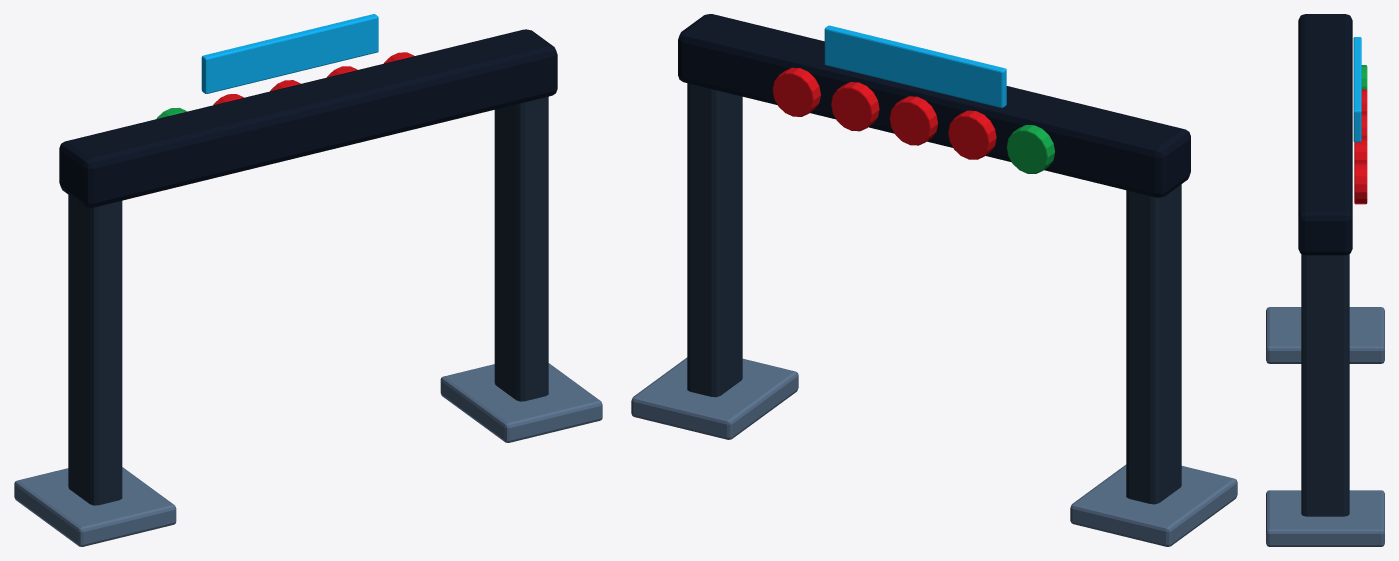
The model's file is neon_start_light_gantry.obj.
3 views of the same model, side by side, from view 1: azimuth 30°, elevation 25°; view 2: azimuth 150°, elevation 25°; view 3: azimuth 270°, elevation 25° (orthographic). The views are drawn at different scales.
Visible parts, largest first — view 1: race_gantry_header_M_navy, race_gantry_post_1_M_gunmetal, race_gantry_post_0_M_gunmetal, race_gantry_foot_0_M_steel, race_gantry_foot_1_M_steel, race_gantry_banner_M_cyan; view 2: race_gantry_header_M_navy, race_gantry_post_1_M_gunmetal, race_gantry_post_0_M_gunmetal, race_gantry_foot_0_M_steel, race_gantry_foot_1_M_steel, race_gantry_banner_M_cyan, race_gantry_light_1_M_red, race_gantry_light_2_M_red, race_gantry_light_0_M_red, race_gantry_light_3_M_red, race_gantry_light_4_M_green; view 3: race_gantry_header_M_navy, race_gantry_post_0_M_gunmetal, race_gantry_foot_0_M_steel, race_gantry_foot_1_M_steel, race_gantry_banner_M_cyan, race_gantry_light_0_M_red, race_gantry_light_1_M_red, race_gantry_light_3_M_red, race_gantry_light_4_M_green, race_gantry_light_2_M_red.
Part boxes in pixels (<box>): race_gantry_header_M_navy: <box>59,29,557,207</box>; race_gantry_post_1_M_gunmetal: <box>68,195,122,505</box>; race_gantry_post_0_M_gunmetal: <box>494,96,548,401</box>; race_gantry_foot_0_M_steel: <box>440,363,602,442</box>; race_gantry_foot_1_M_steel: <box>14,467,176,546</box>; race_gantry_banner_M_cyan: <box>201,14,378,93</box>; race_gantry_header_M_navy: <box>678,14,1190,197</box>; race_gantry_post_1_M_gunmetal: <box>1126,184,1181,504</box>; race_gantry_post_0_M_gunmetal: <box>687,83,742,397</box>; race_gantry_foot_0_M_steel: <box>631,357,798,439</box>; race_gantry_foot_1_M_steel: <box>1070,464,1237,546</box>; race_gantry_banner_M_cyan: <box>824,25,1006,107</box>; race_gantry_light_1_M_red: <box>831,82,879,131</box>; race_gantry_light_2_M_red: <box>889,96,937,145</box>; race_gantry_light_0_M_red: <box>772,67,820,116</box>; race_gantry_light_3_M_red: <box>948,110,996,159</box>; race_gantry_light_4_M_green: <box>1006,125,1054,173</box>; race_gantry_header_M_navy: <box>1298,14,1352,255</box>; race_gantry_post_0_M_gunmetal: <box>1301,254,1349,516</box>; race_gantry_foot_0_M_steel: <box>1266,490,1384,546</box>; race_gantry_foot_1_M_steel: <box>1266,307,1384,363</box>; race_gantry_banner_M_cyan: <box>1353,37,1361,142</box>; race_gantry_light_0_M_red: <box>1354,162,1367,204</box>; race_gantry_light_1_M_red: <box>1354,138,1367,163</box>; race_gantry_light_3_M_red: <box>1361,89,1367,114</box>; race_gantry_light_4_M_green: <box>1361,65,1367,90</box>; race_gantry_light_2_M_red: <box>1361,114,1367,138</box>.
Bounding box in the file's own units: 3.32 × 2.49 × 0.74.
